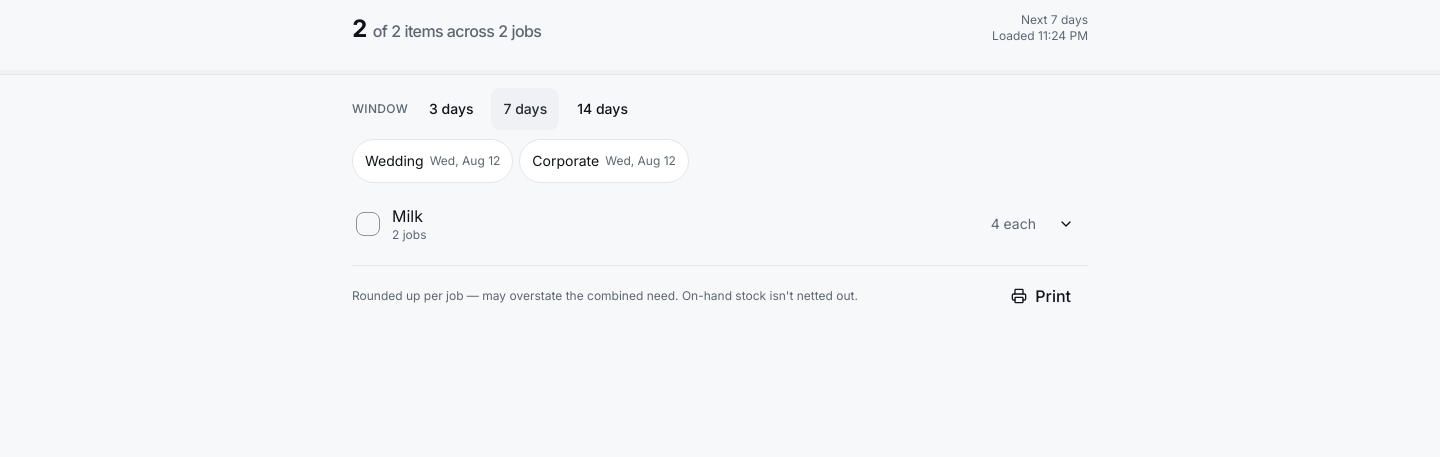
it: ShoppingRunClient — fresh server reads across scope navigations › prunes failed-write flags for jobs that leave the scope — the header never points at nothing
Click the button named "Show per-job breakdown for Milk".
click(1066, 224)  # box top-left (1044, 202), bottom-right (1088, 246)
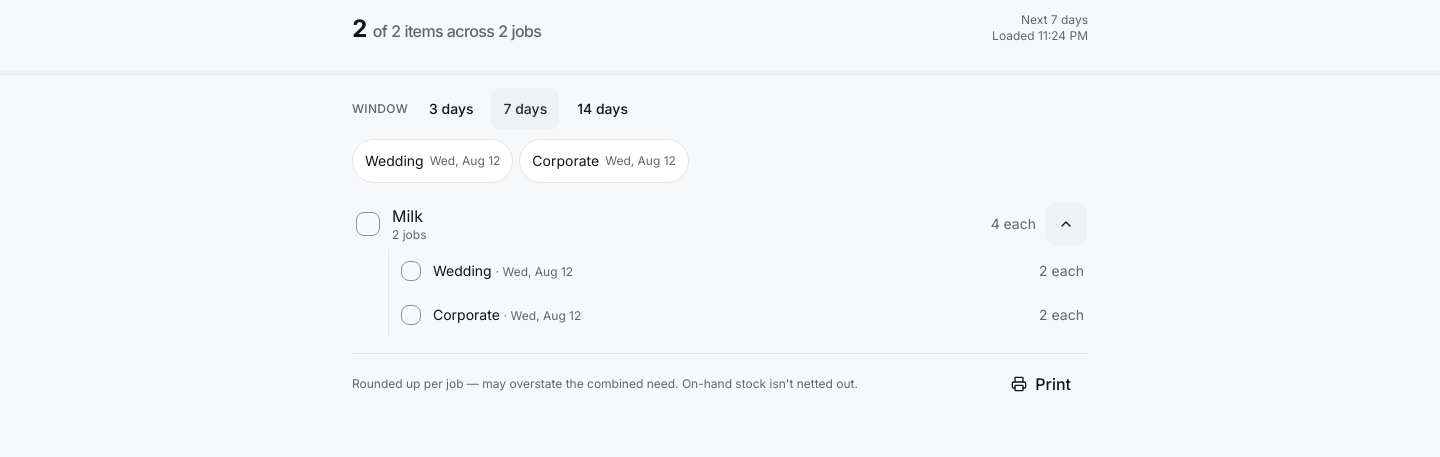
Click the checkbox named "Milk for Wedding".
click(462, 270)  # box top-left (397, 249), bottom-right (1088, 293)
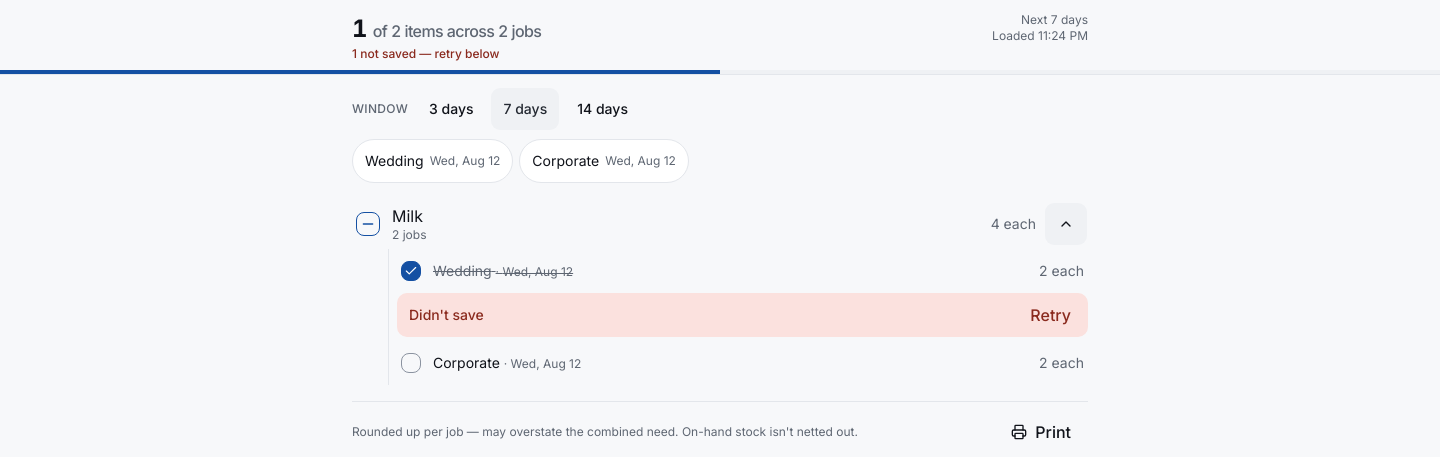
Check: the text "1 not saved — retry below" is shown, box top-left (352, 46), bottom-right (500, 62)
